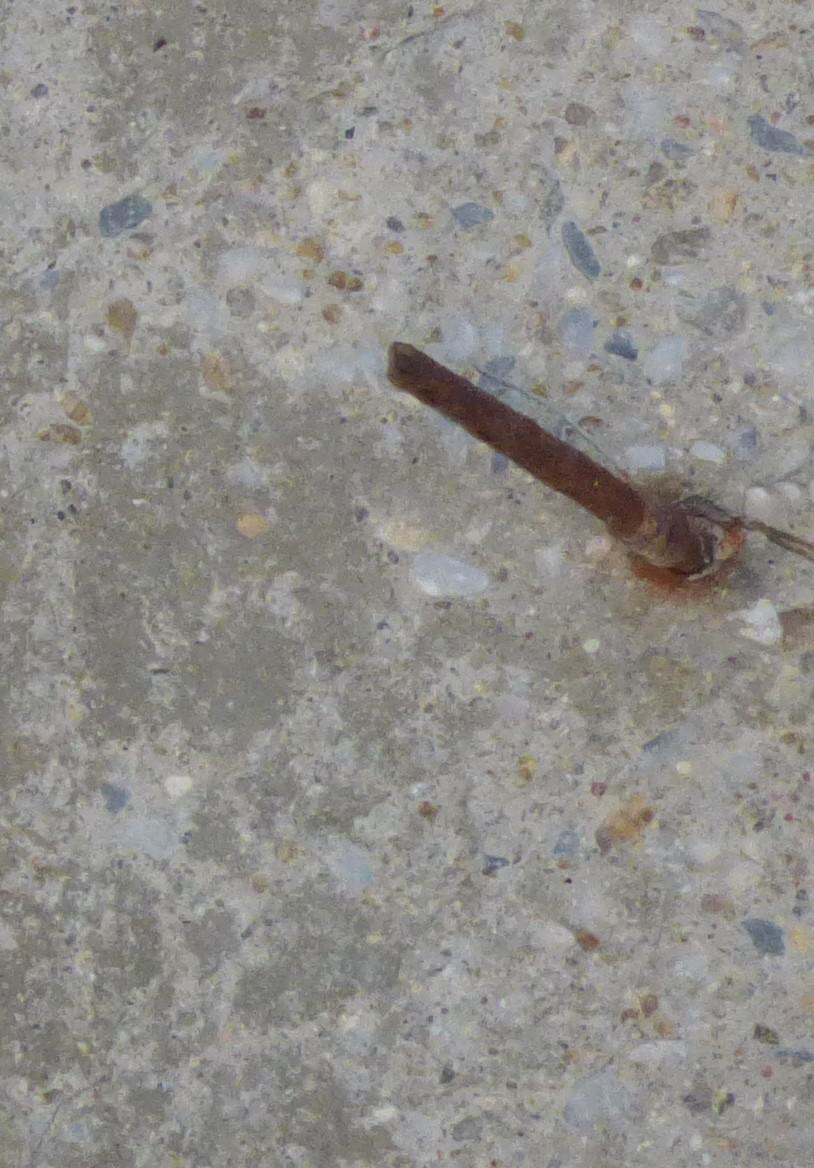Exposed reinforcement: (386, 341, 710, 572)
